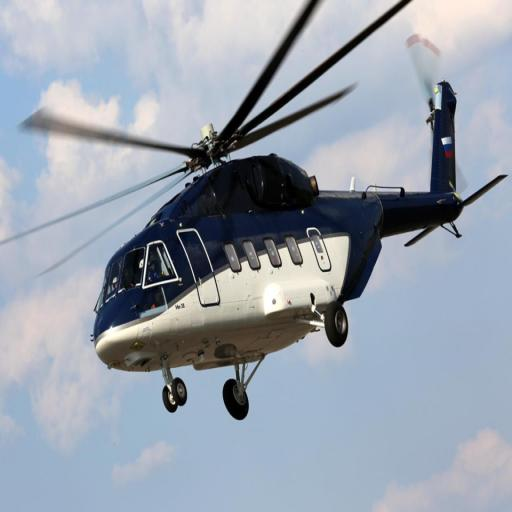helicopter: (78, 2, 478, 436)
